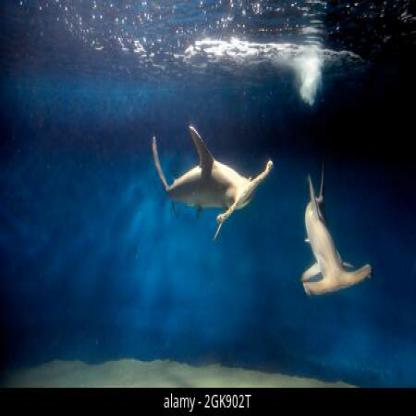hammerhead_Shark: (138, 104, 276, 238), (290, 162, 382, 305)
